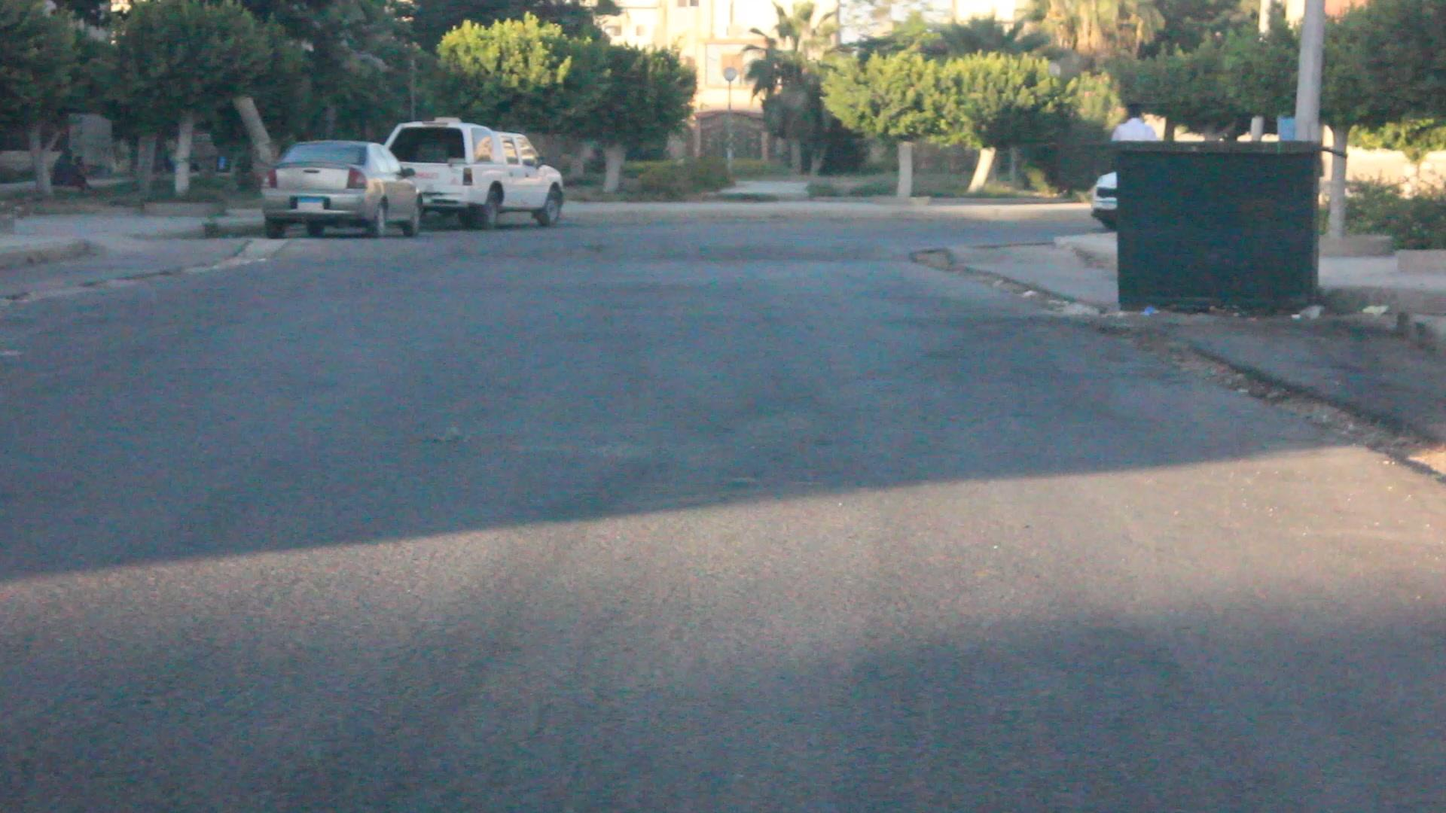Bump: (185, 228, 983, 263)
